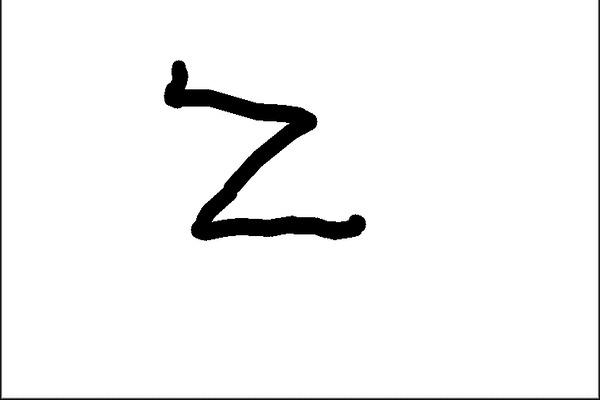Z: (160, 51, 372, 251)
